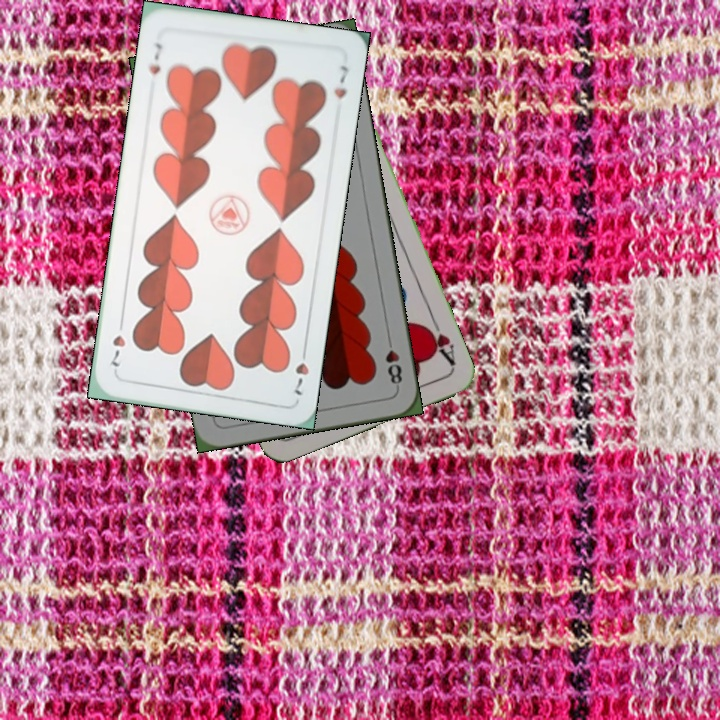H7: (290, 342, 312, 398), (145, 39, 165, 77)
H8: (381, 332, 405, 391)
HA: (420, 312, 458, 368)
